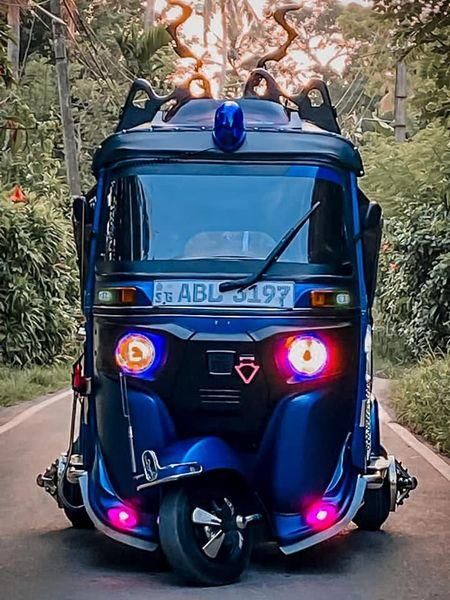threewheel: (63, 127, 394, 586)
